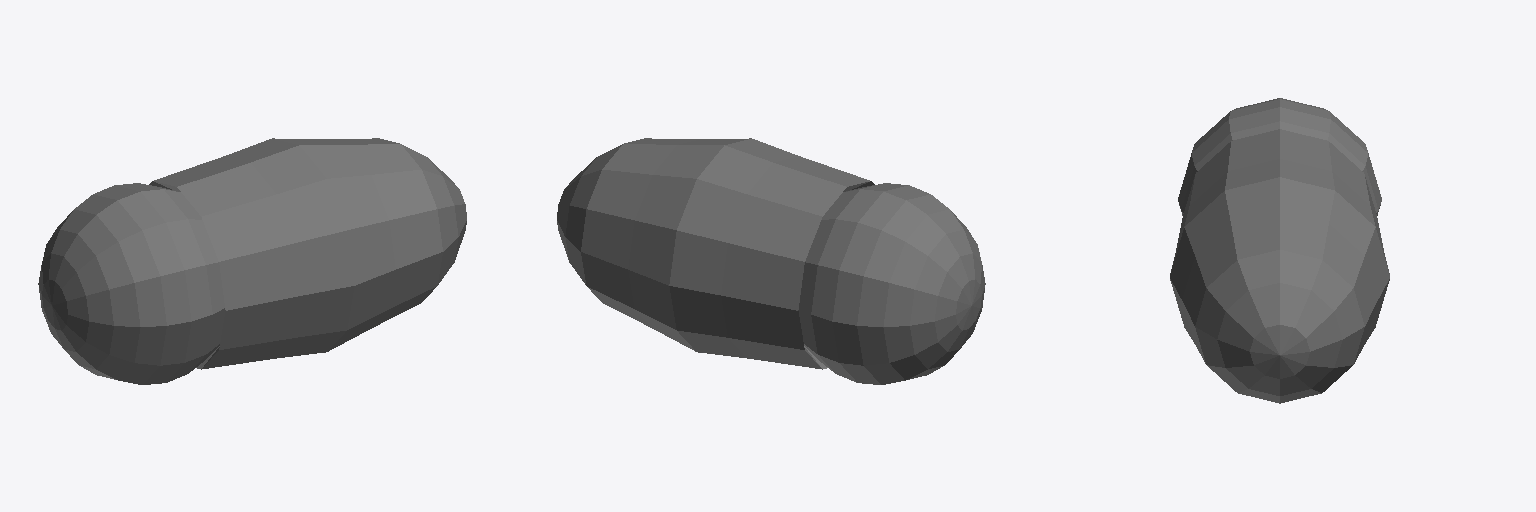
File: hand.obj
The picture shows the model from 3 angles: view 1: azimuth 30°, elevation 25°; view 2: azimuth 150°, elevation 25°; view 3: azimuth 270°, elevation 25°; orthographic projection.
Visible parts, largest first — view 1: pSphere7; view 2: pSphere7; view 3: pSphere7.
Part boxes in pixels (x1,y1,x2,y2): pSphere7: (38,138,466,384); pSphere7: (557,138,985,384); pSphere7: (1170,98,1389,403).
Bounding box in the file's own units: 8.98 × 4.21 × 4.21.